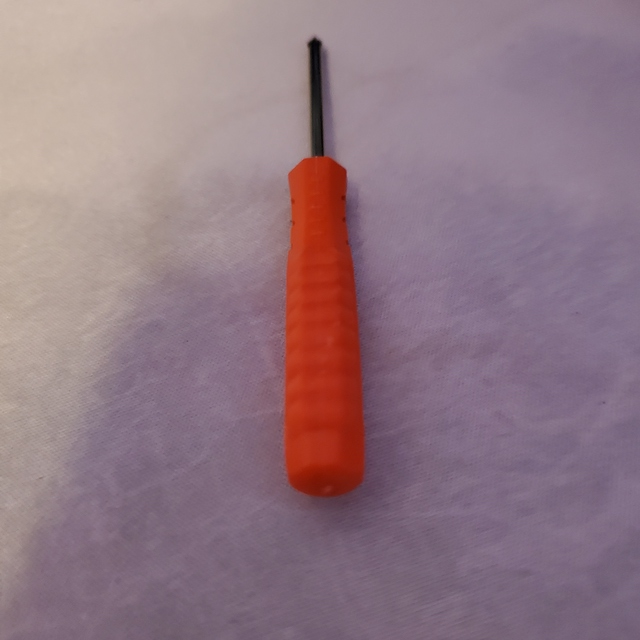screwdriver: (277, 26, 375, 509)
